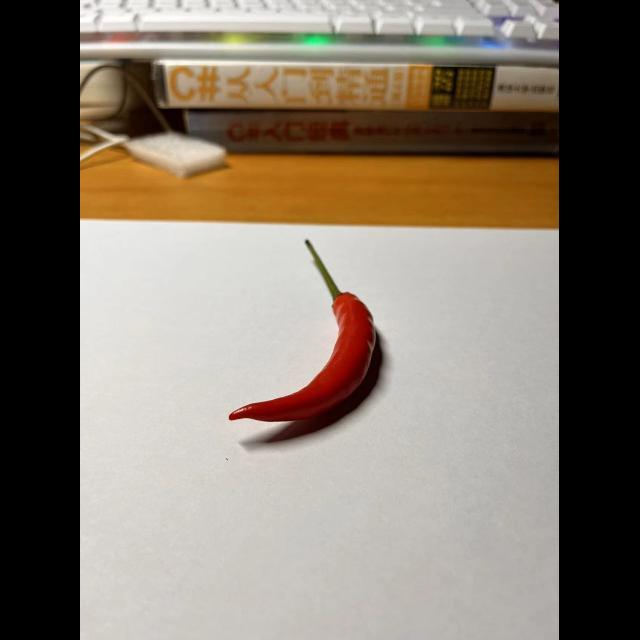chili_pepper: (222, 234, 393, 426)
